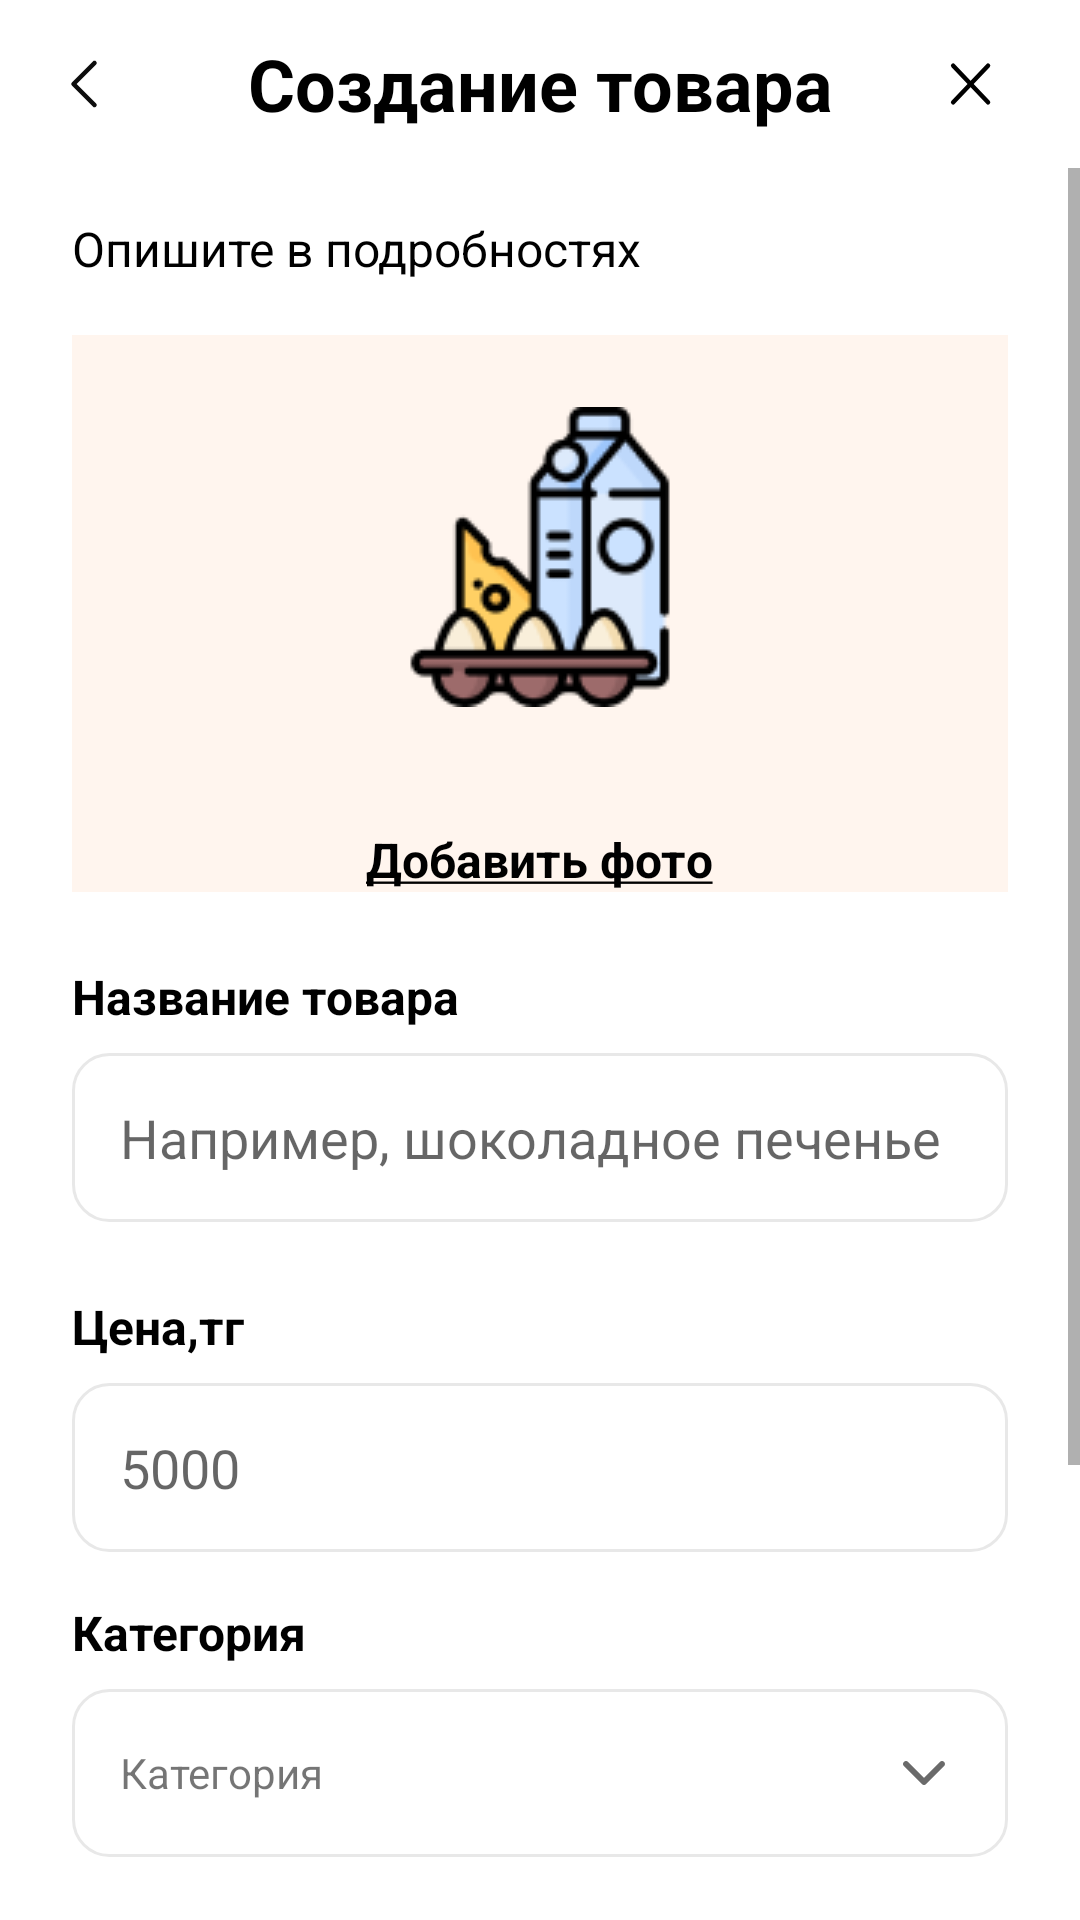

Where icons sit on this 1080*1920 app screen, as (x1,y1,x2,y2):
close: (951,63,991,105)
procuct: (410,407,670,707)
